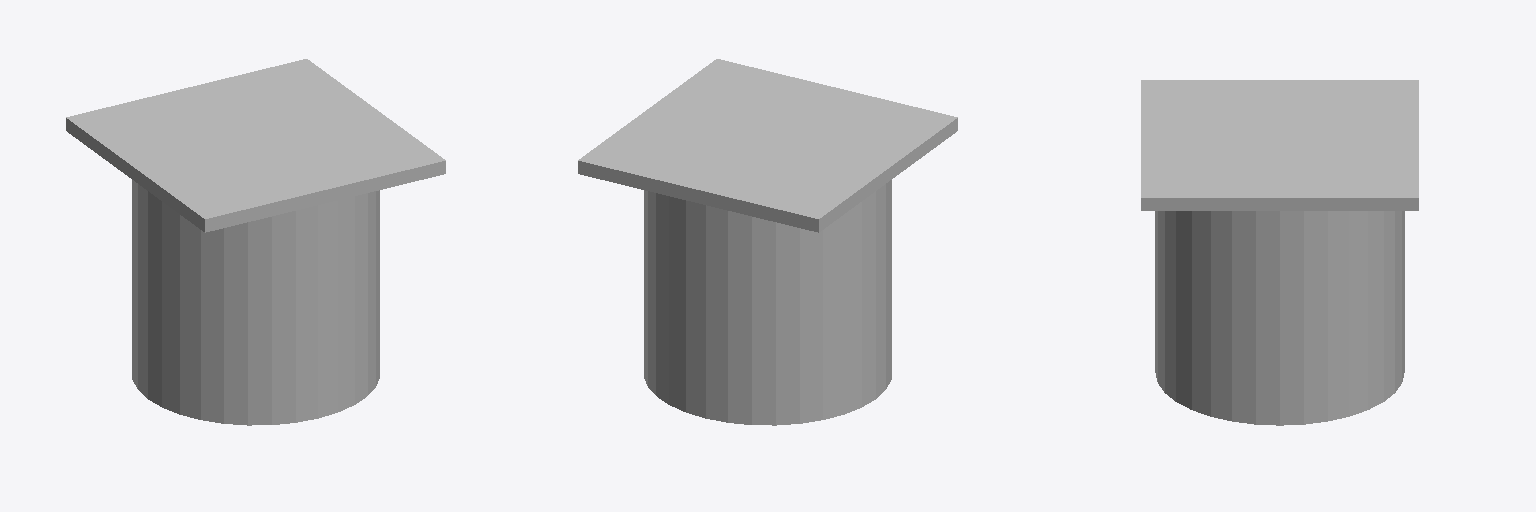
Rendered from sphere_collider.obj.
3 renders of one model, left to right at view 1: azimuth 30°, elevation 25°; view 2: azimuth 150°, elevation 25°; view 3: azimuth 270°, elevation 25°, orthographic.
Parts seen in each view (by area): view 1: Circle.001; view 2: Circle.001; view 3: Circle.001.
Part boxes in pixels (x1,y1,x2,y2): Circle.001: (66,59,445,425); Circle.001: (578,59,957,425); Circle.001: (1141,80,1418,425).
Size of the model in its own units: 10.72 by 9.93 by 10.72.